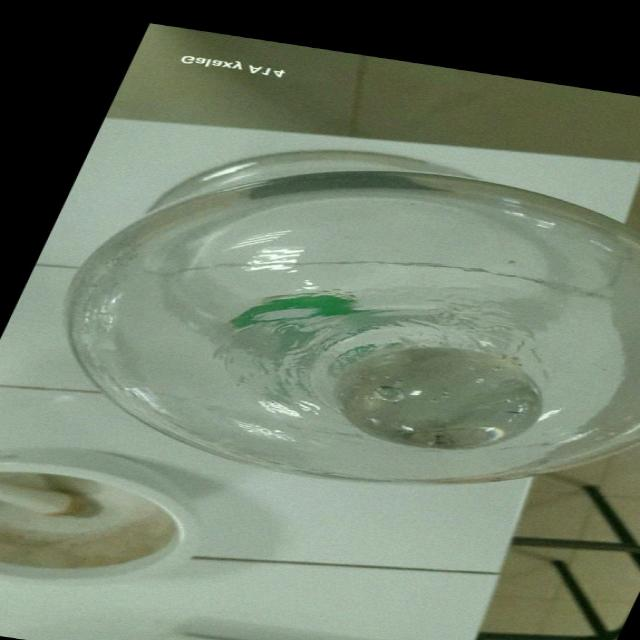Gas Bottle: (0, 111, 640, 520)
